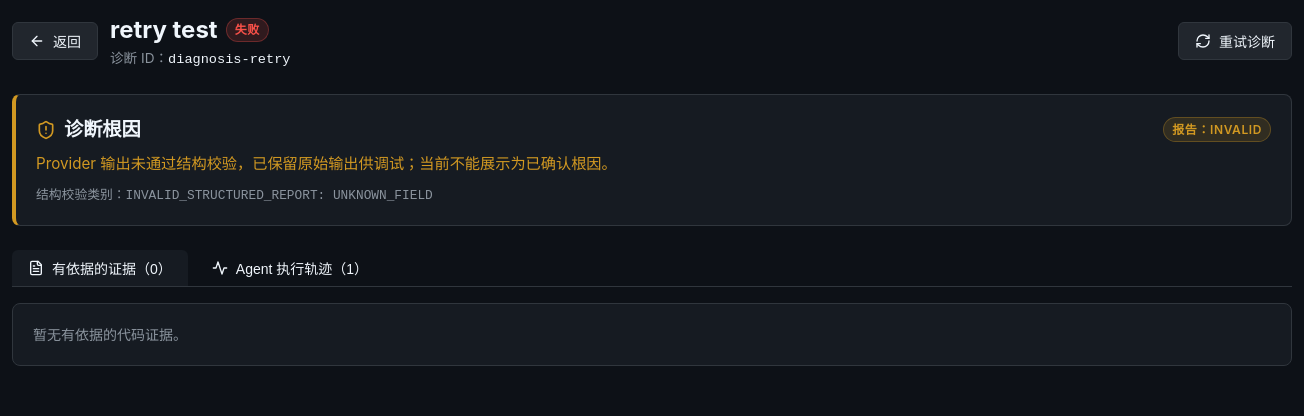
DiagnosisView retry polling › switches trace to the new running attempt after retry and clears old steps
Click the button "重试诊断" at (1235, 41), box [1178,22,1292,60]
Wait 2100 ms
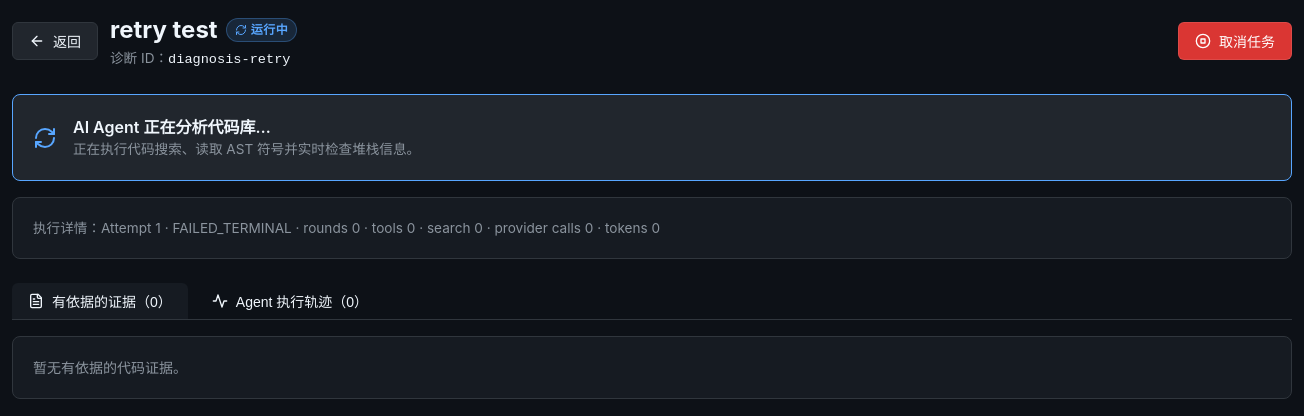
Now the text "Agent 执行轨迹（0）" is shown, box [196,283,384,319]
